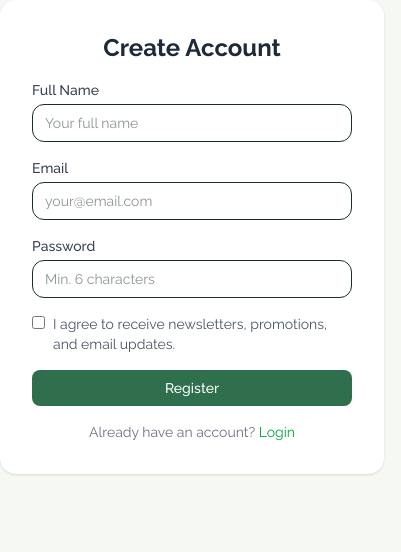
Test case: RegisterForm › shows validation error when full name is empty
Click the button "Register": click(192, 388) [32, 370, 352, 406]
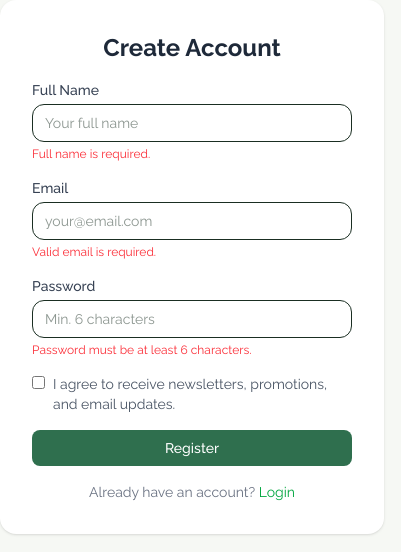
Expected: the text "Full name is required." is shown, [32, 147, 150, 161]
